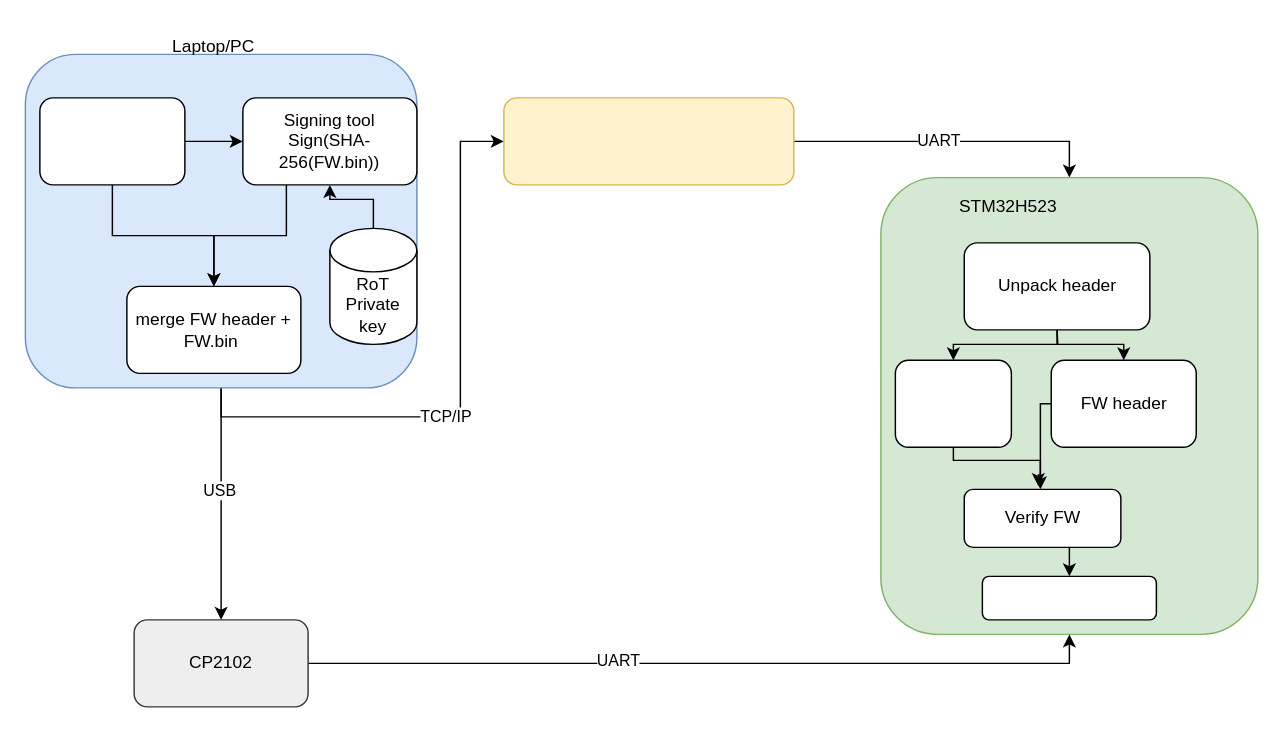
This 1283x732 diagram has some shape labels left out. The shapes that lost their labels are listed below. From the top down, each one's centre as x and y in pixels, then its label:
At pixel 111 140: "STM32IDE FW.bin".
At pixel 648 140: "ESP32".
At pixel 952 403: "FW.bin".
At pixel 1068 597: "Bootloader data".
